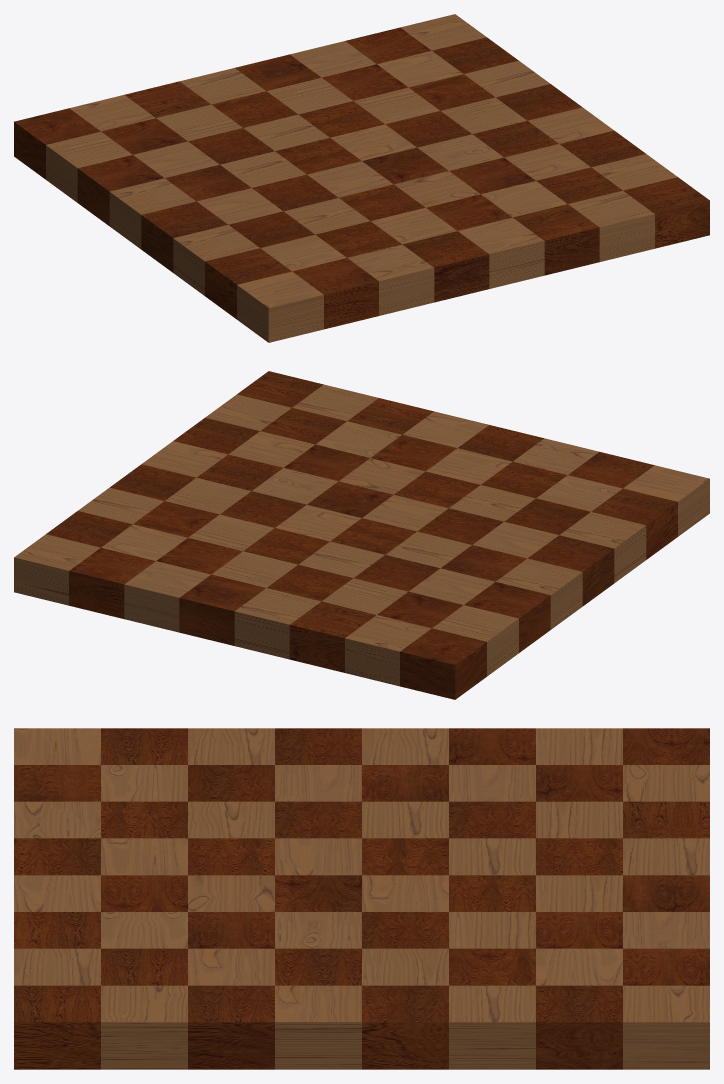
Rendered from tahta_oyma.glb.
3 views of the same model, one above another, from view 1: azimuth 30°, elevation 25°; view 2: azimuth 150°, elevation 25°; view 3: azimuth 270°, elevation 25° (orthographic). The views are drawn at different scales.
Parts seen in each view (by area): view 1: t0, t1; view 2: t1, t0; view 3: t0, t1.
Part boxes in pixels (box(x1,y1,x2,y2)): t0: box(14, 27, 709, 329); t1: box(46, 14, 677, 342); t1: box(14, 384, 709, 686); t0: box(46, 371, 677, 699); t0: box(14, 728, 709, 1069); t1: box(14, 728, 709, 1069).
Size of the model in its own units: 8 by 0.6026 by 8.
2 materials, 2 textured.
